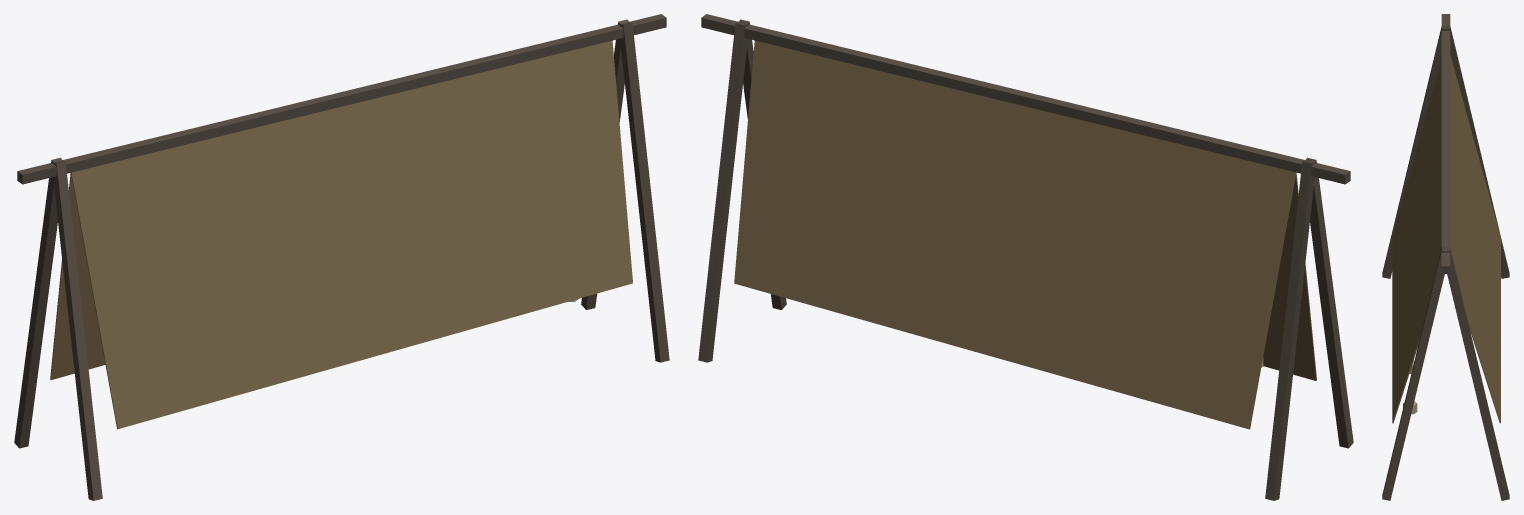
File: walk_prop_net_rack.glb
The picture shows the model from 3 angles, left to right: view 1: azimuth 30°, elevation 25°; view 2: azimuth 150°, elevation 25°; view 3: azimuth 270°, elevation 25°; orthographic projection. The views are drawn at different scales.
Visible parts, largest first — view 1: walk_prop_net_rack; view 2: walk_prop_net_rack; view 3: walk_prop_net_rack.
Part boxes in pixels (left/top/right/bottom): walk_prop_net_rack: left=14, top=14, right=669, bottom=500; walk_prop_net_rack: left=698, top=14, right=1353, bottom=500; walk_prop_net_rack: left=1382, top=14, right=1509, bottom=500.
Size of what is drawn, in the model's own units: 5 by 2.32 by 1.07.
Materials: 1 (1 with a texture image).
